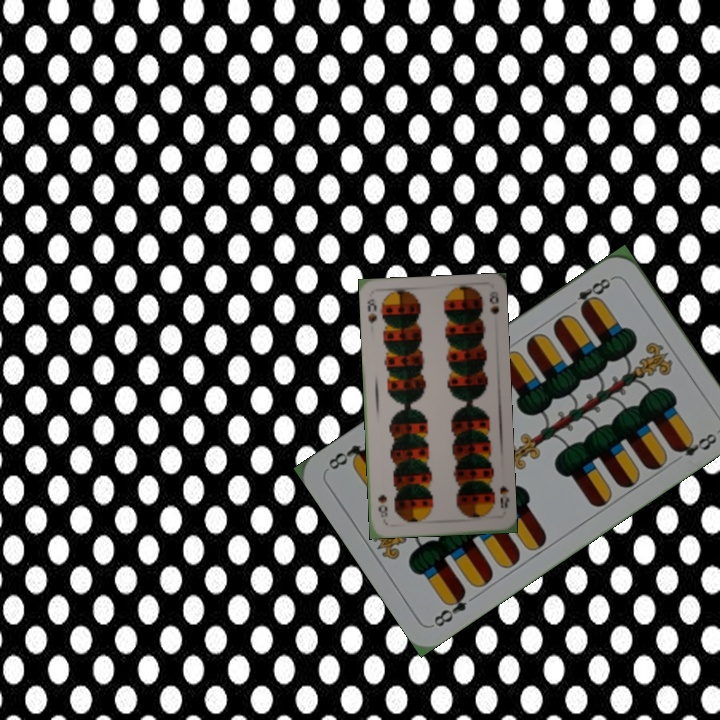E8: (564, 273, 616, 314), (429, 585, 470, 630)
S8: (363, 295, 379, 326), (496, 481, 512, 510)
